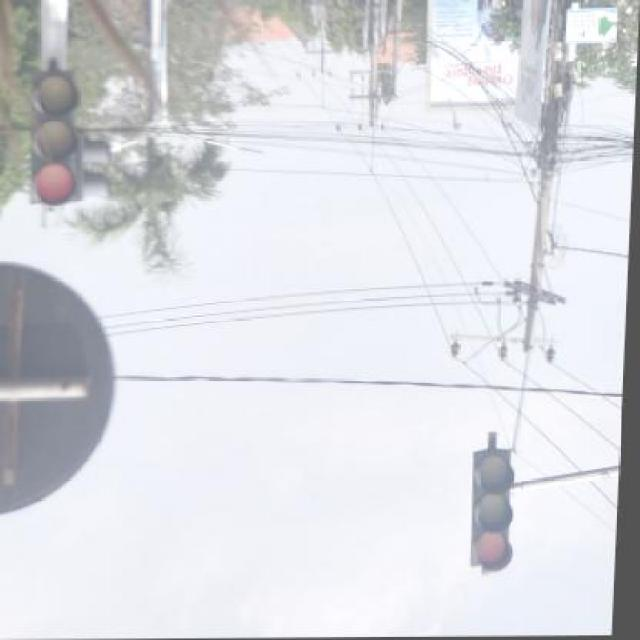red_light: (28, 69, 82, 209), (470, 448, 521, 570)
